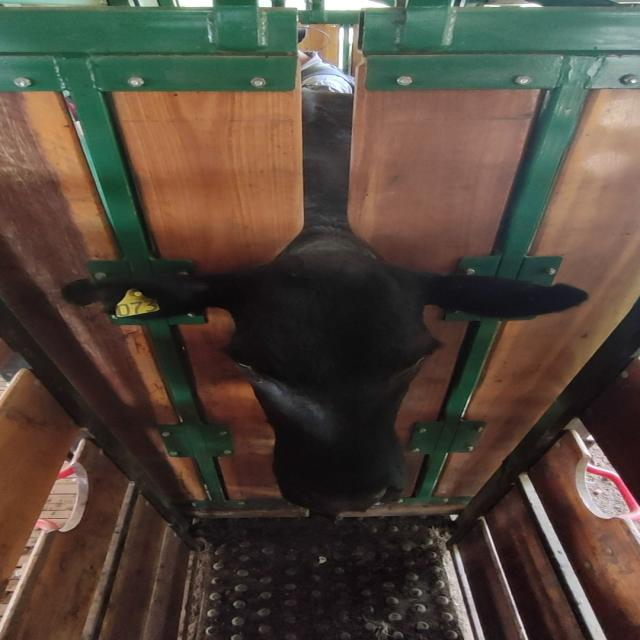cowFace: (227, 256, 440, 510)
